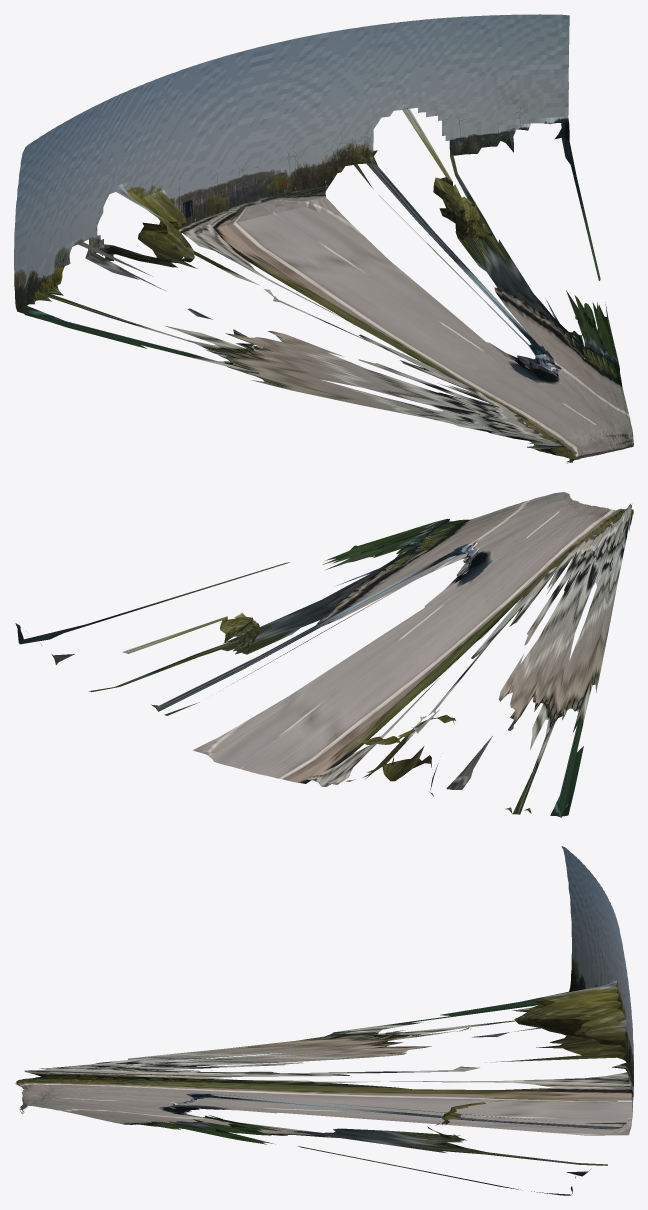
3 renders of one model, top to bottom at view 1: azimuth 30°, elevation 25°; view 2: azimuth 150°, elevation 25°; view 3: azimuth 270°, elevation 25°, orthographic. The views are drawn at different scales.
Visible parts, largest first — view 1: defaultobject; view 2: defaultobject; view 3: defaultobject.
Boxes of the visible parts, <box> form: defaultobject: <box>14,14,633,463</box>; defaultobject: <box>15,492,633,817</box>; defaultobject: <box>15,846,633,1195</box>.
Size of the model in its own units: 41.14 by 12.86 by 44.69.
Materials: 1 (1 with a texture image).
